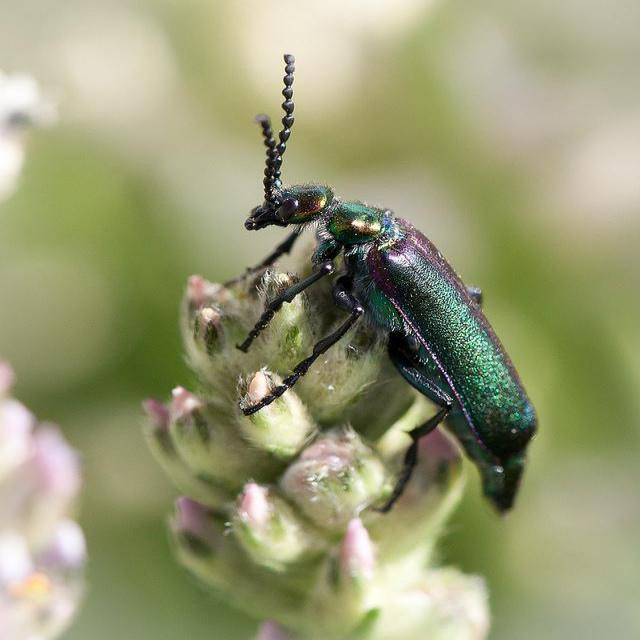BlisterBeetle-Adult-: (228, 48, 549, 512)
